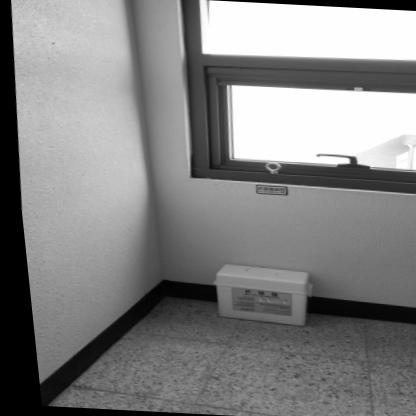DDL: (201, 262, 310, 327)
